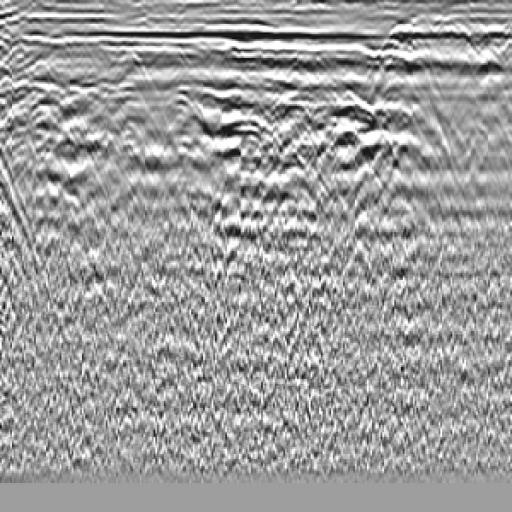metalic: (171, 69, 273, 146)
